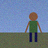person: (25, 12, 41, 42)
